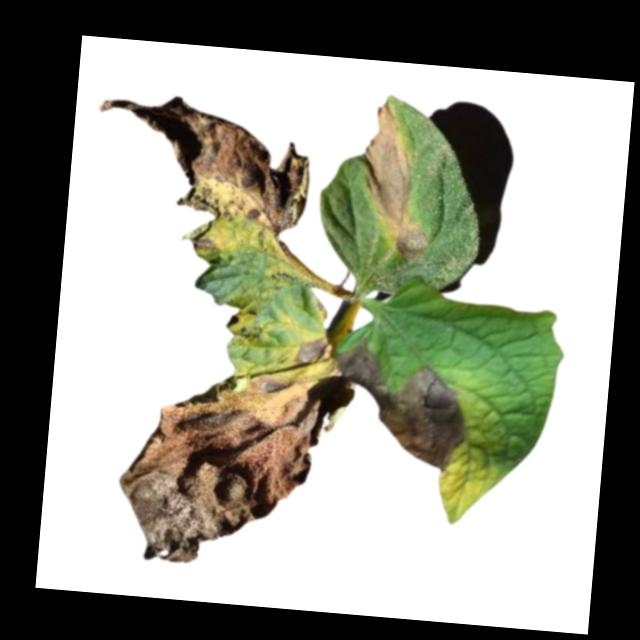Early_blight: (112, 365, 320, 574), (87, 89, 319, 263), (329, 344, 478, 471), (353, 98, 445, 263), (296, 333, 332, 365)
